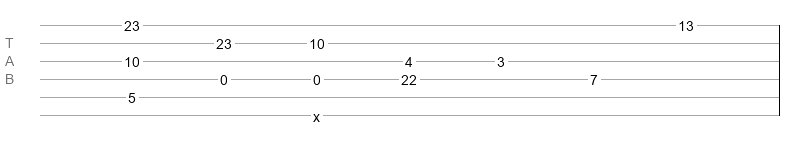0: (220, 72, 228, 82), (313, 72, 321, 82)
10: (124, 54, 140, 64), (309, 36, 325, 46)
13: (678, 18, 694, 28)
22: (401, 72, 417, 82)
23: (124, 18, 140, 28), (216, 36, 232, 46)
3: (497, 54, 505, 64)
4: (405, 54, 413, 64)
5: (128, 90, 136, 100)
7: (590, 72, 598, 82)
x: (313, 109, 320, 117)
